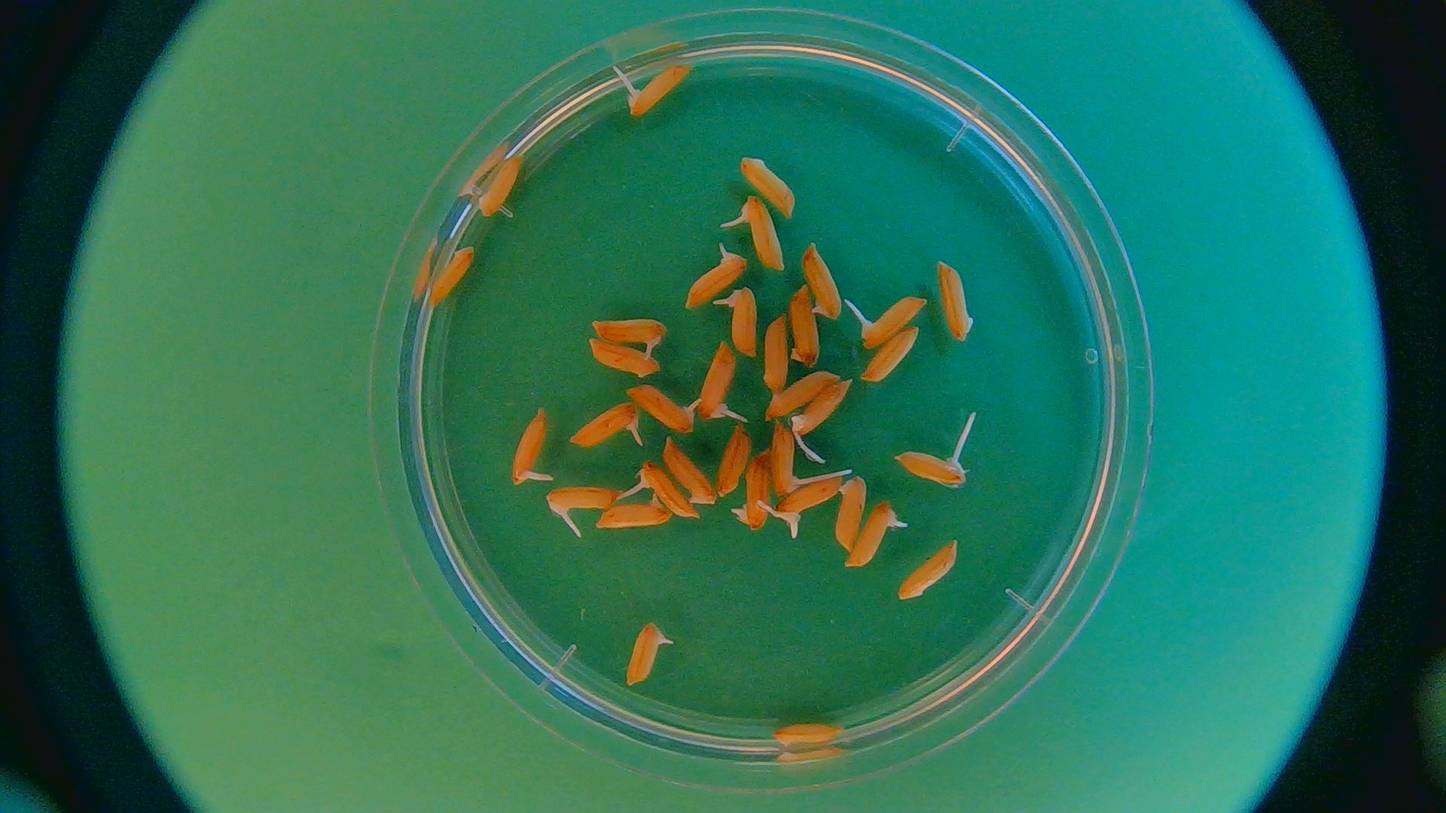no: (896, 537, 958, 600), (738, 157, 799, 215), (767, 370, 840, 418), (664, 440, 717, 504), (862, 325, 920, 382), (802, 245, 843, 317), (938, 258, 974, 340), (479, 152, 523, 218), (428, 245, 477, 304), (590, 340, 662, 378), (718, 425, 756, 497), (760, 315, 793, 396), (834, 475, 867, 553), (596, 497, 673, 528), (788, 285, 816, 366), (771, 725, 846, 751)
yes: (730, 449, 776, 531), (625, 62, 694, 115), (572, 401, 646, 450), (854, 297, 926, 347), (687, 251, 749, 309), (740, 198, 789, 271), (626, 385, 700, 433), (791, 379, 850, 437), (636, 464, 700, 517), (846, 504, 897, 568), (697, 343, 738, 420), (546, 486, 618, 527), (894, 449, 966, 490), (782, 478, 849, 522), (719, 288, 760, 357), (593, 317, 668, 354), (511, 411, 549, 483), (624, 623, 665, 686), (771, 421, 800, 495)
